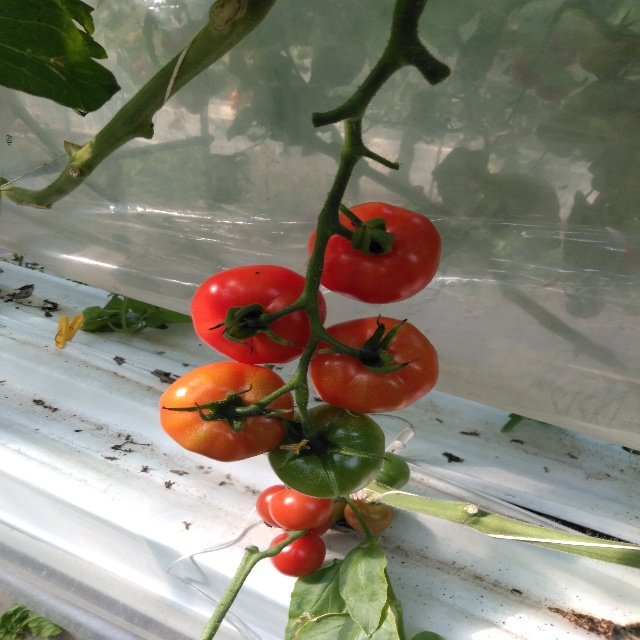l_fully_ripened: (307, 202, 443, 305), (191, 265, 327, 365), (308, 316, 439, 413), (268, 487, 334, 531), (268, 532, 326, 577), (256, 484, 289, 529), (282, 512, 332, 536)
l_green: (267, 403, 386, 498), (372, 451, 410, 491)
l_half_ripened: (159, 361, 296, 463), (345, 499, 393, 534)
